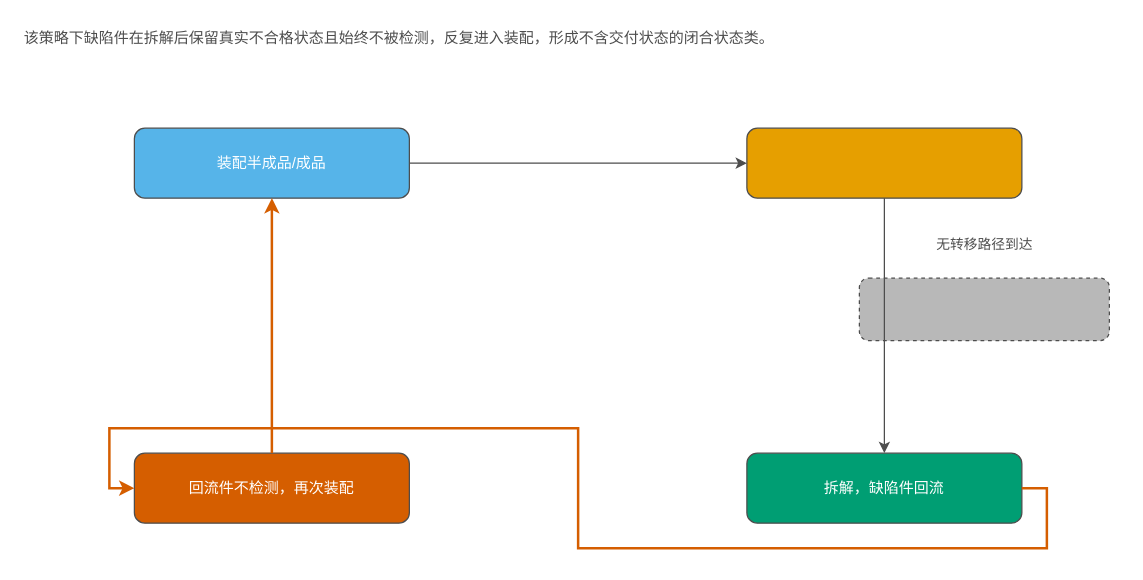
Some shapes in this 1143 by 580 pixel diagram are drawn without their labels. The box of each missing label's shape, as (x1, y1, x2, y2) in pixels:
合格交付状态（不可达）: (858, 277, 1109, 341)
检测：不合格: (746, 127, 1022, 198)
